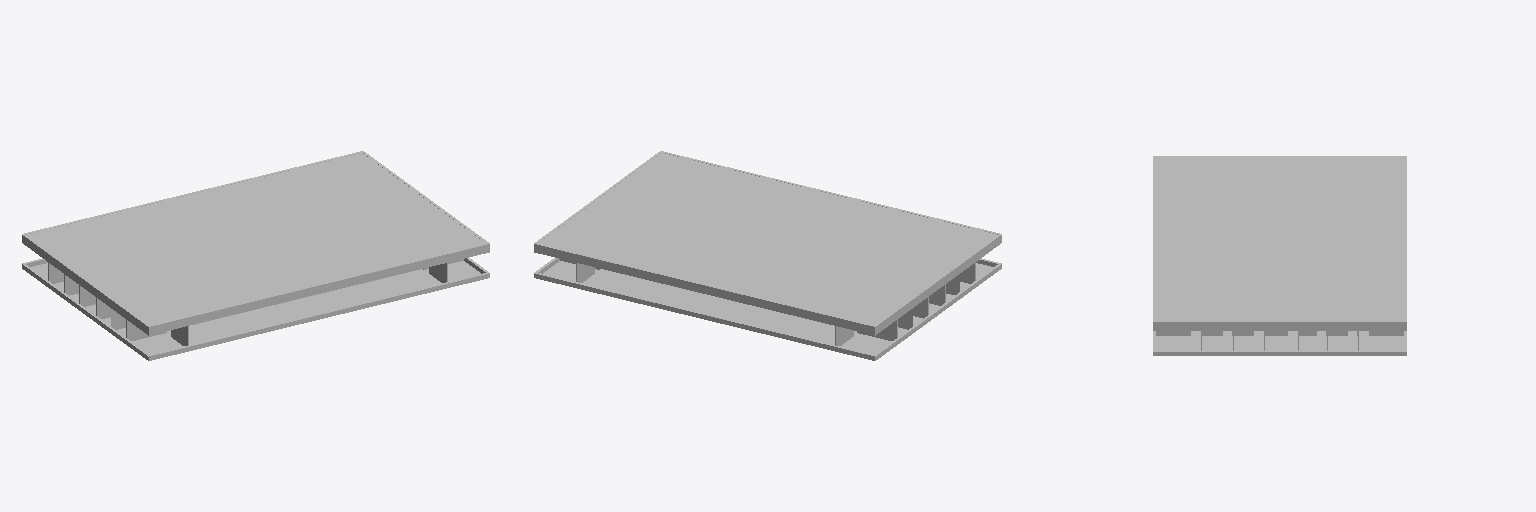
The model's file is Envelope_ForStrip_WWR60p_9ft.obj.
3 renders of one model, left to right at view 1: azimuth 30°, elevation 25°; view 2: azimuth 150°, elevation 25°; view 3: azimuth 270°, elevation 25°, orthographic.
Parts seen in each view (by area): view 1: Envelope_ForStrip_WWR60p_9ft.obj; view 2: Envelope_ForStrip_WWR60p_9ft.obj; view 3: Envelope_ForStrip_WWR60p_9ft.obj.
Boxes of the visible parts, <box> form: Envelope_ForStrip_WWR60p_9ft.obj: <box>22,151,489,360</box>; Envelope_ForStrip_WWR60p_9ft.obj: <box>534,151,1001,360</box>; Envelope_ForStrip_WWR60p_9ft.obj: <box>1153,156,1406,355</box>.
Bounding box in the file's own units: 38.71 × 3.69 × 24.94.